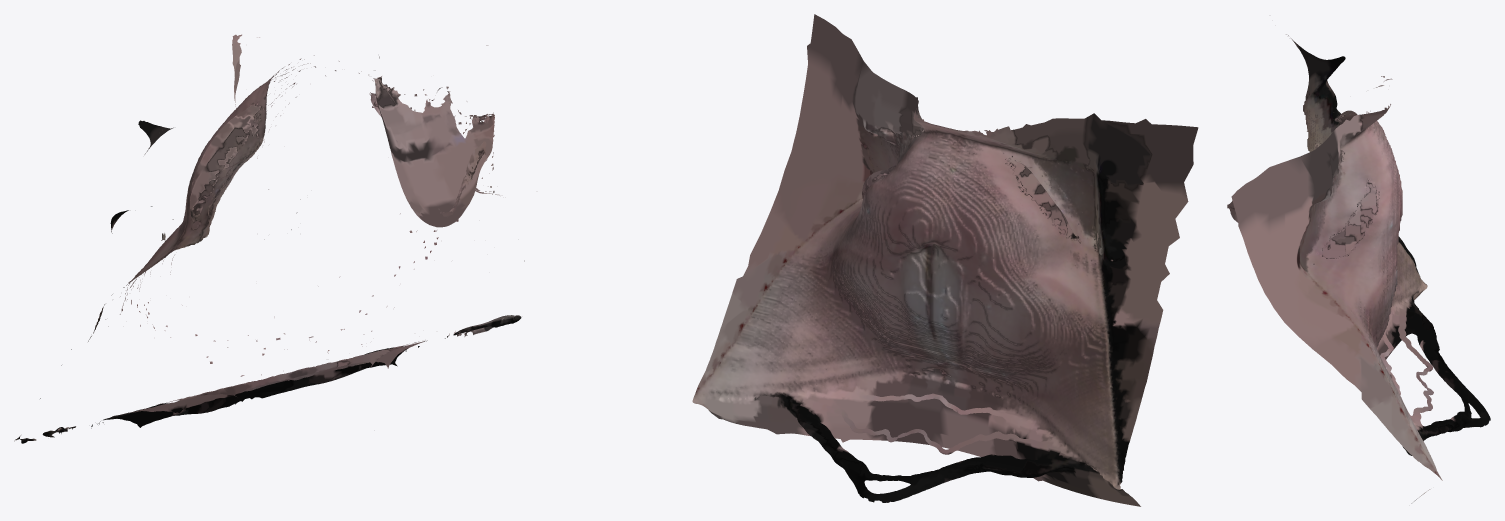
The picture shows the model from 3 angles, left to right: view 1: azimuth 30°, elevation 25°; view 2: azimuth 150°, elevation 25°; view 3: azimuth 270°, elevation 25°; orthographic projection. The views are drawn at different scales.
Bounding box in the file's own units: 0.0013 × 0.00102 × 0.000764.
